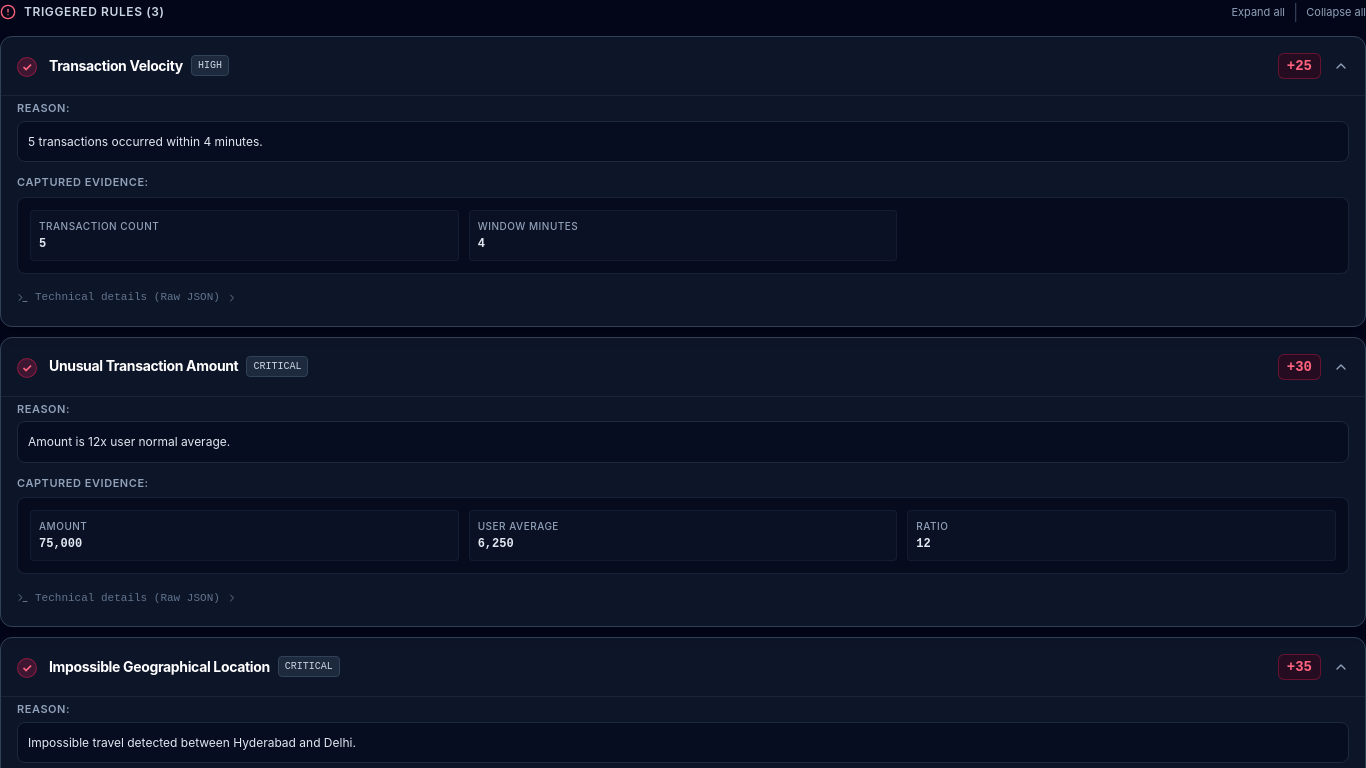
Scenario: TriggeredRules Component › allows collapsing and expanding individual rule cards
The image size is (1366, 768).
Click the button "Collapse all": (1336, 12) [1306, 4, 1365, 20]
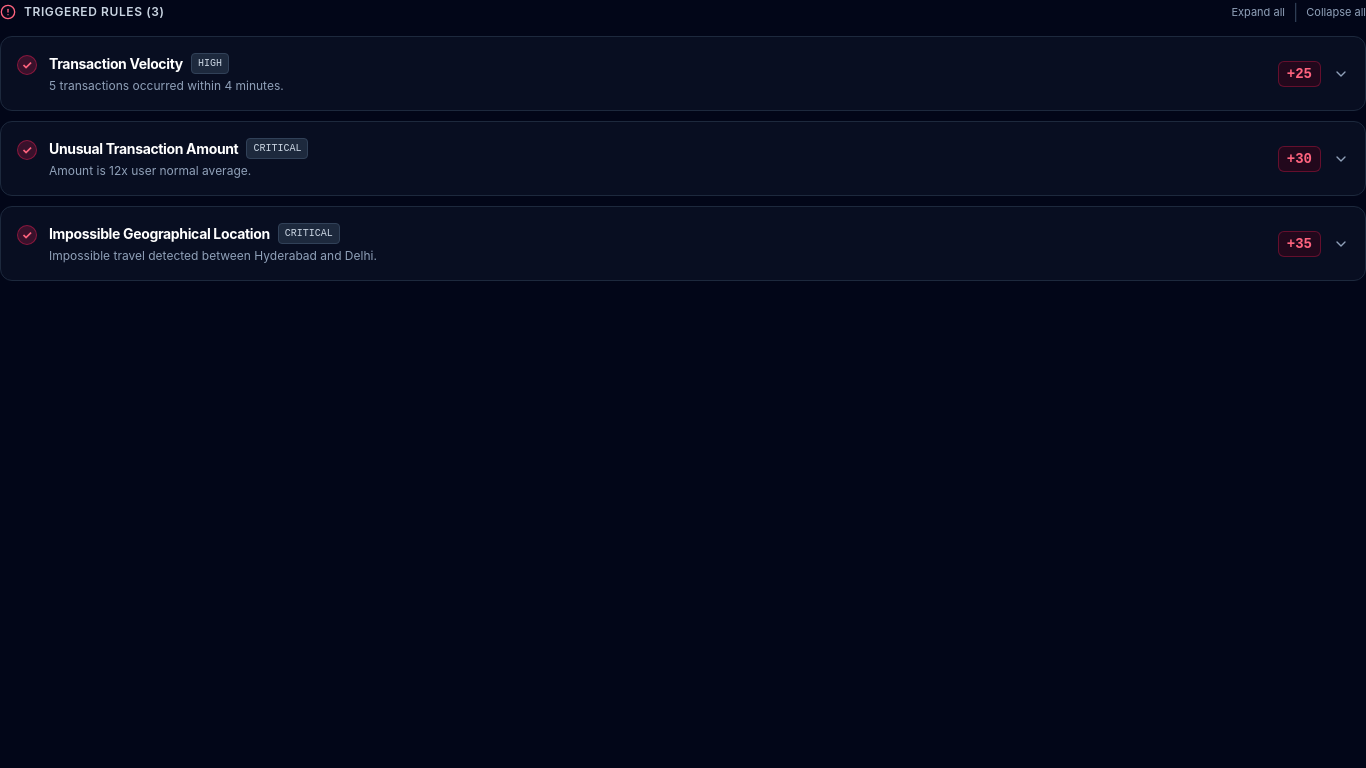
Now the text "Captured Evidence:" is gone
// Click on the first rule header to re-expand it
Click the button "Transaction Velocity": (116, 63) [1, 37, 1365, 110]
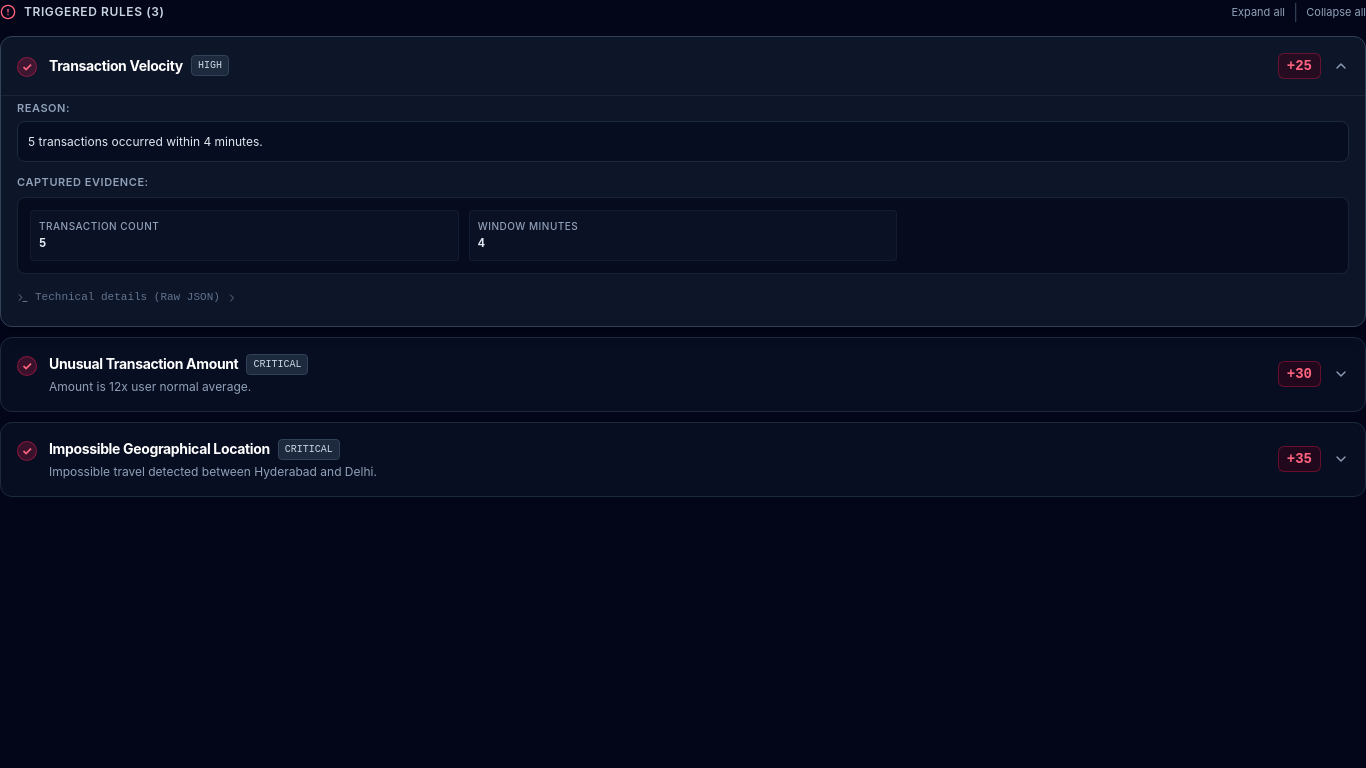
Now the text "Captured Evidence:" is shown, box [17, 175, 149, 189]
Now the text "Transaction Count" is shown, box [39, 220, 159, 232]
